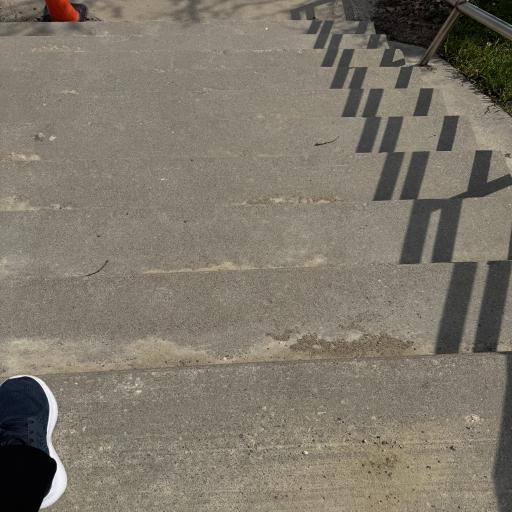Stairs: (0, 20, 512, 511)
